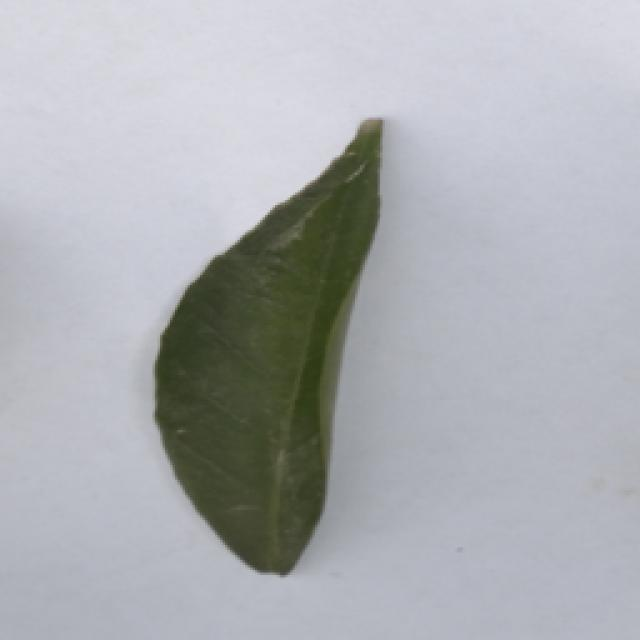healthy: (133, 114, 403, 586)
